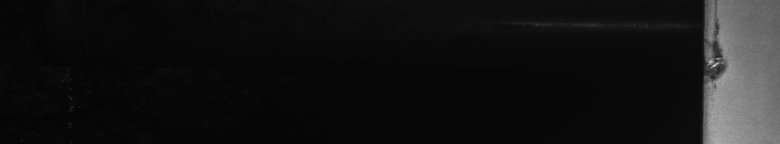hb: (712, 23, 726, 80)
